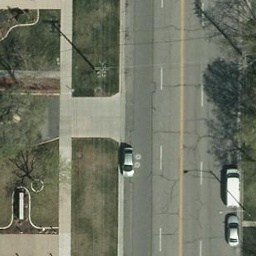car: (225, 170, 243, 209), (223, 215, 240, 246), (119, 144, 133, 178)
